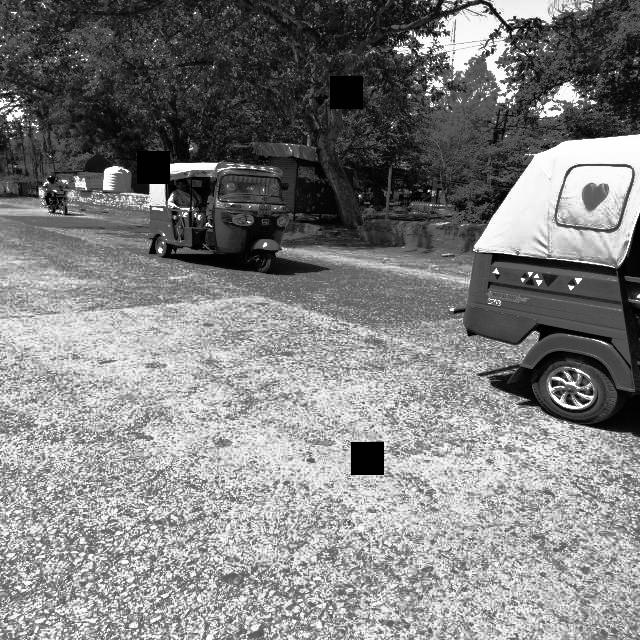Auto-Rickshaw: (452, 125, 640, 429), (127, 154, 309, 284)
